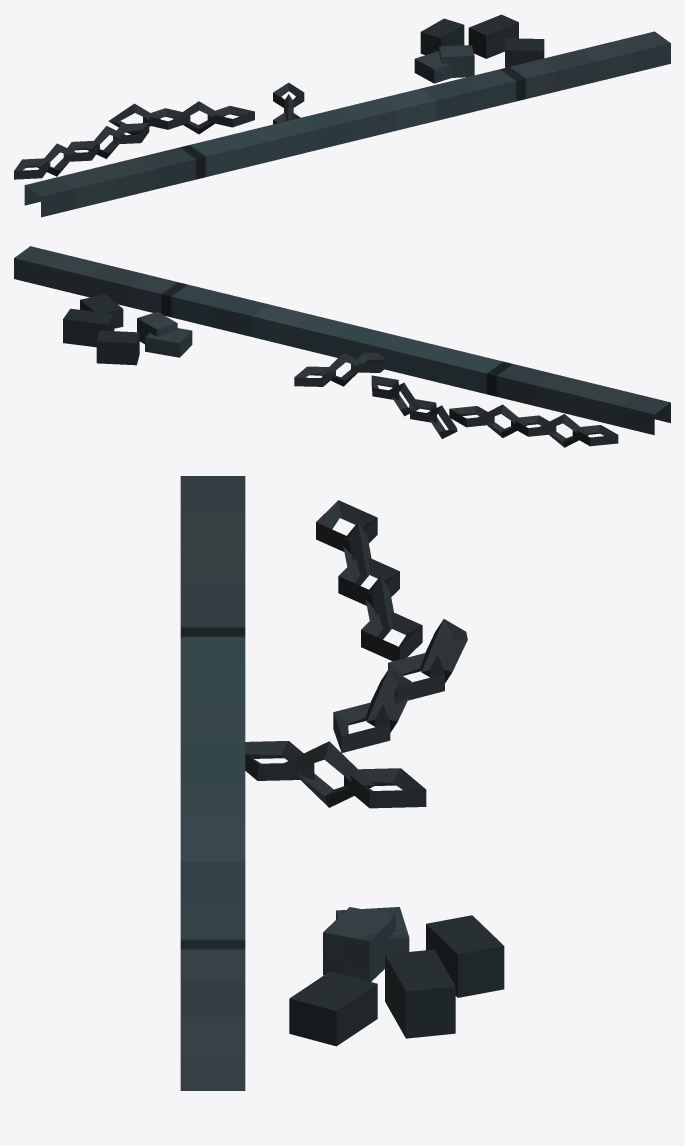
File: T1_Lane_End_C.fbx
The picture shows the model from 3 angles, top to bottom: view 1: azimuth 30°, elevation 25°; view 2: azimuth 150°, elevation 25°; view 3: azimuth 270°, elevation 25°; orthographic projection. The views are drawn at different scales.
Visible parts, largest first — view 1: T1_Lane_End_C; view 2: T1_Lane_End_C; view 3: T1_Lane_End_C.
Boxes of the visible parts, x1,y1,x2,y2 form: T1_Lane_End_C: (14, 14, 670, 217); T1_Lane_End_C: (14, 246, 670, 447); T1_Lane_End_C: (180, 476, 504, 1090).
Size of the model in its own units: 4.5 by 0.228 by 1.
